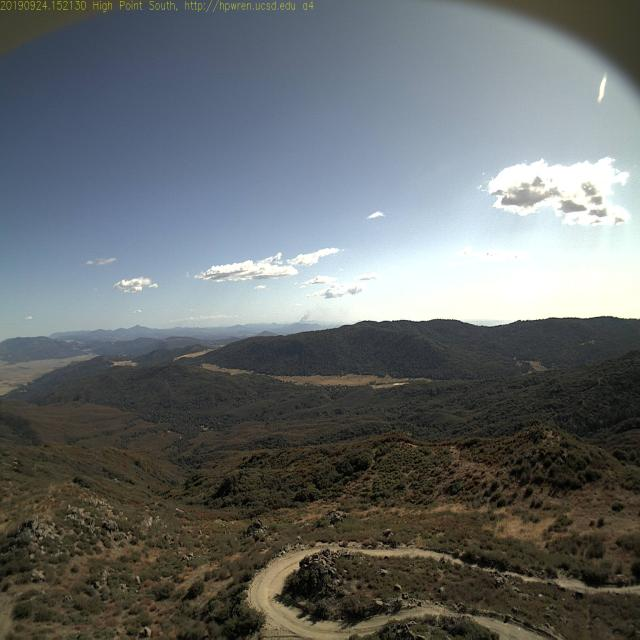smoke: (296, 309, 312, 323)
